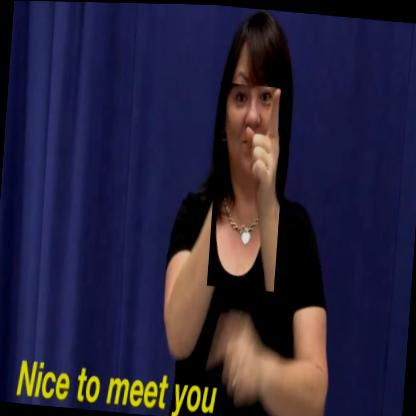NiceToMeetYou: (207, 82, 288, 291)
